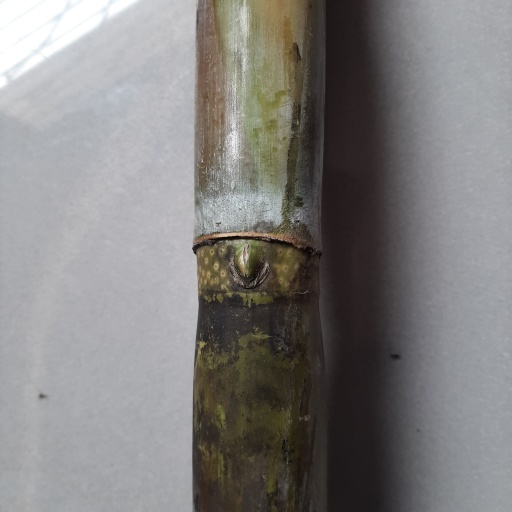Bud: (232, 242, 267, 287)
